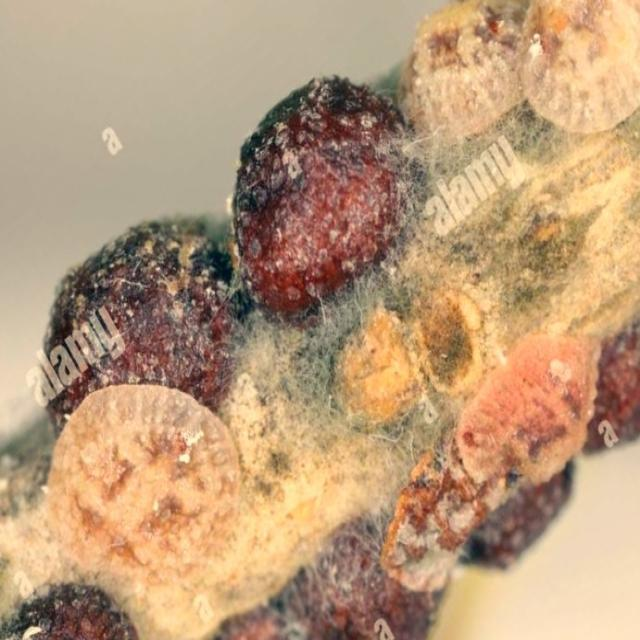BlackScale: (43, 218, 239, 582), (216, 460, 574, 639), (234, 76, 404, 312), (406, 0, 639, 137), (454, 333, 599, 482), (583, 343, 639, 453)
